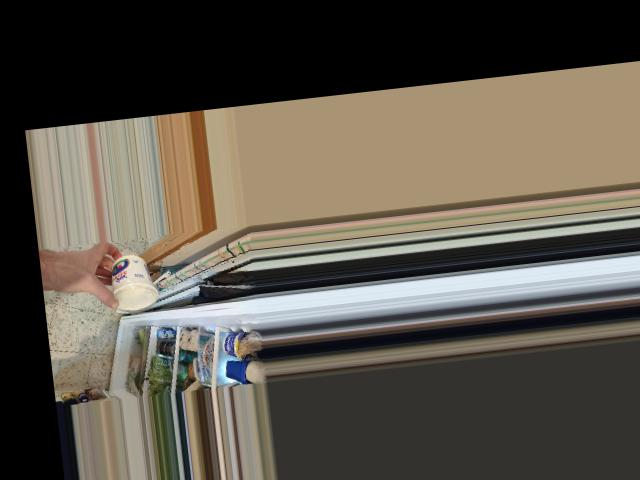cotage: (105, 253, 155, 312)
